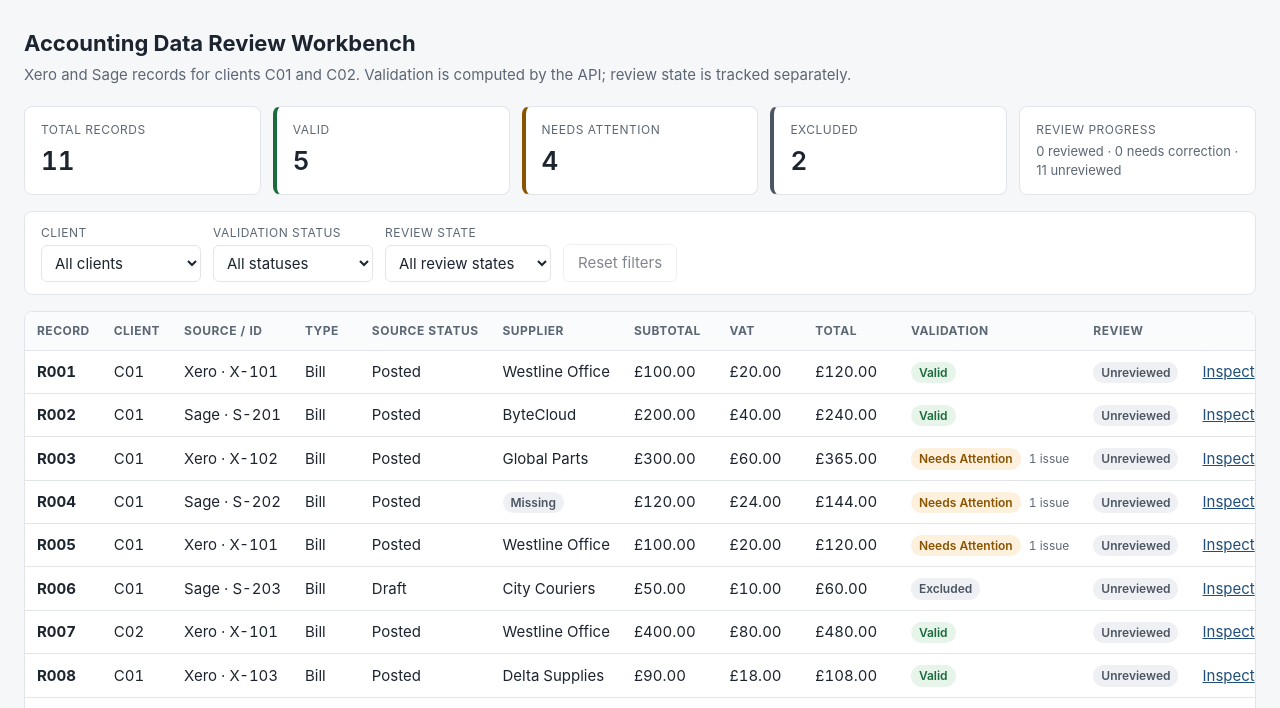
Test: Review workbench › filters by client through the API and keeps the summary global
Expected: the row with test id "row-R001" is shown, x1=25 y1=350 x2=1256 y2=393
Select "C02" in the dropdown labelled "Client" at [121, 264], box x1=41 y1=245 x2=201 y2=282
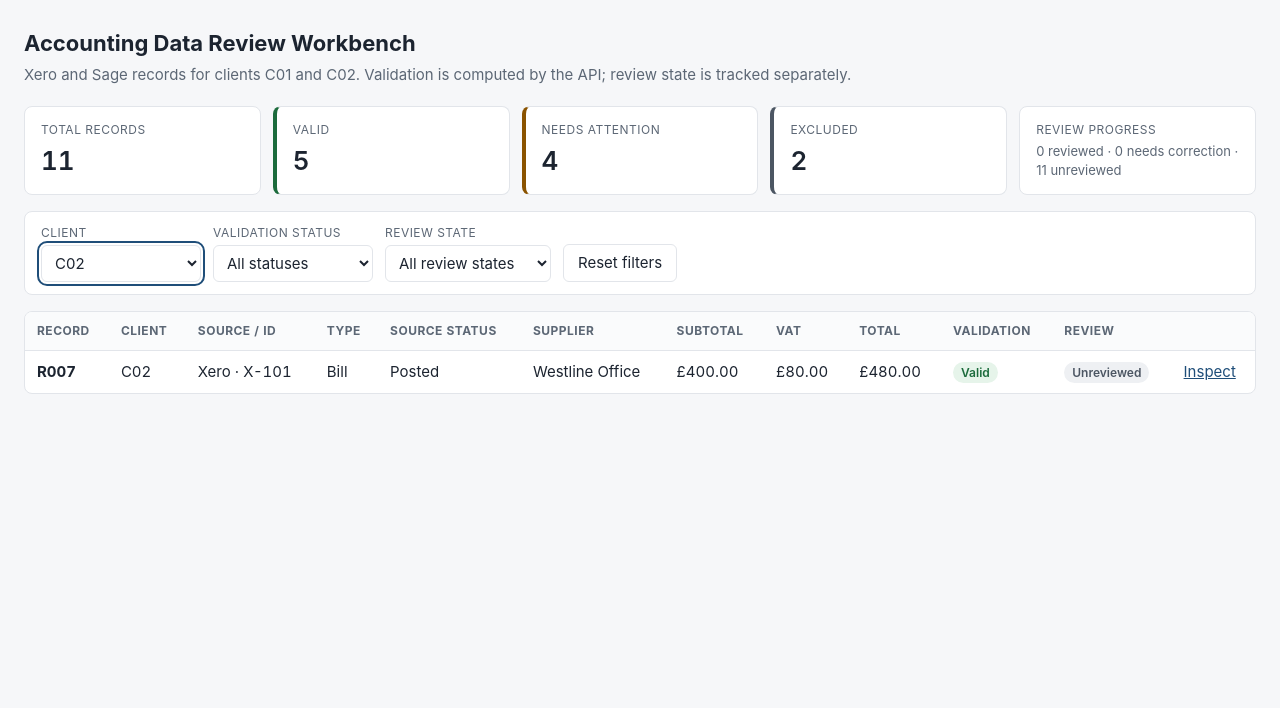
Expected: the row with test id "row-R007" is shown, x1=25 y1=350 x2=1255 y2=393
Now the row with test id "row-R001" is gone
